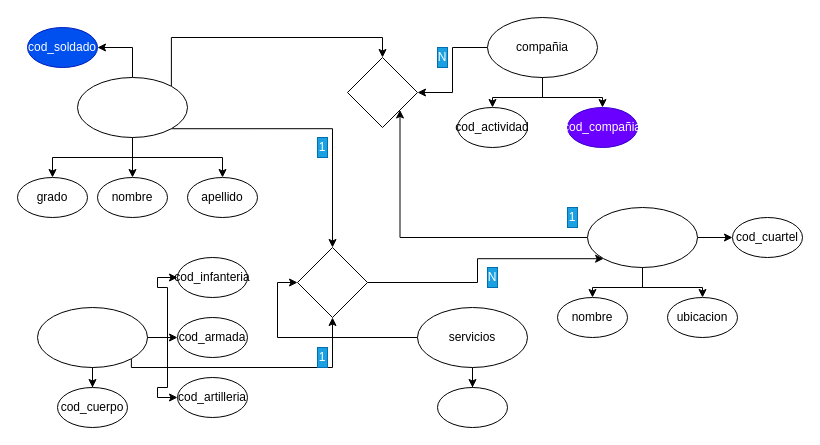
Some shapes in this 820 by 445 pixel diagram are drawn without their labels. The shapes that lost their labels are listed below. From the top down, each one's centre as x and y in pixels, then its label:
(x=132, y=107): soldado
(x=382, y=92): N / N
(x=642, y=237): cuartel
(x=332, y=282): N / 1
(x=92, y=337): cuerpo
(x=472, y=407): cod_servicio
